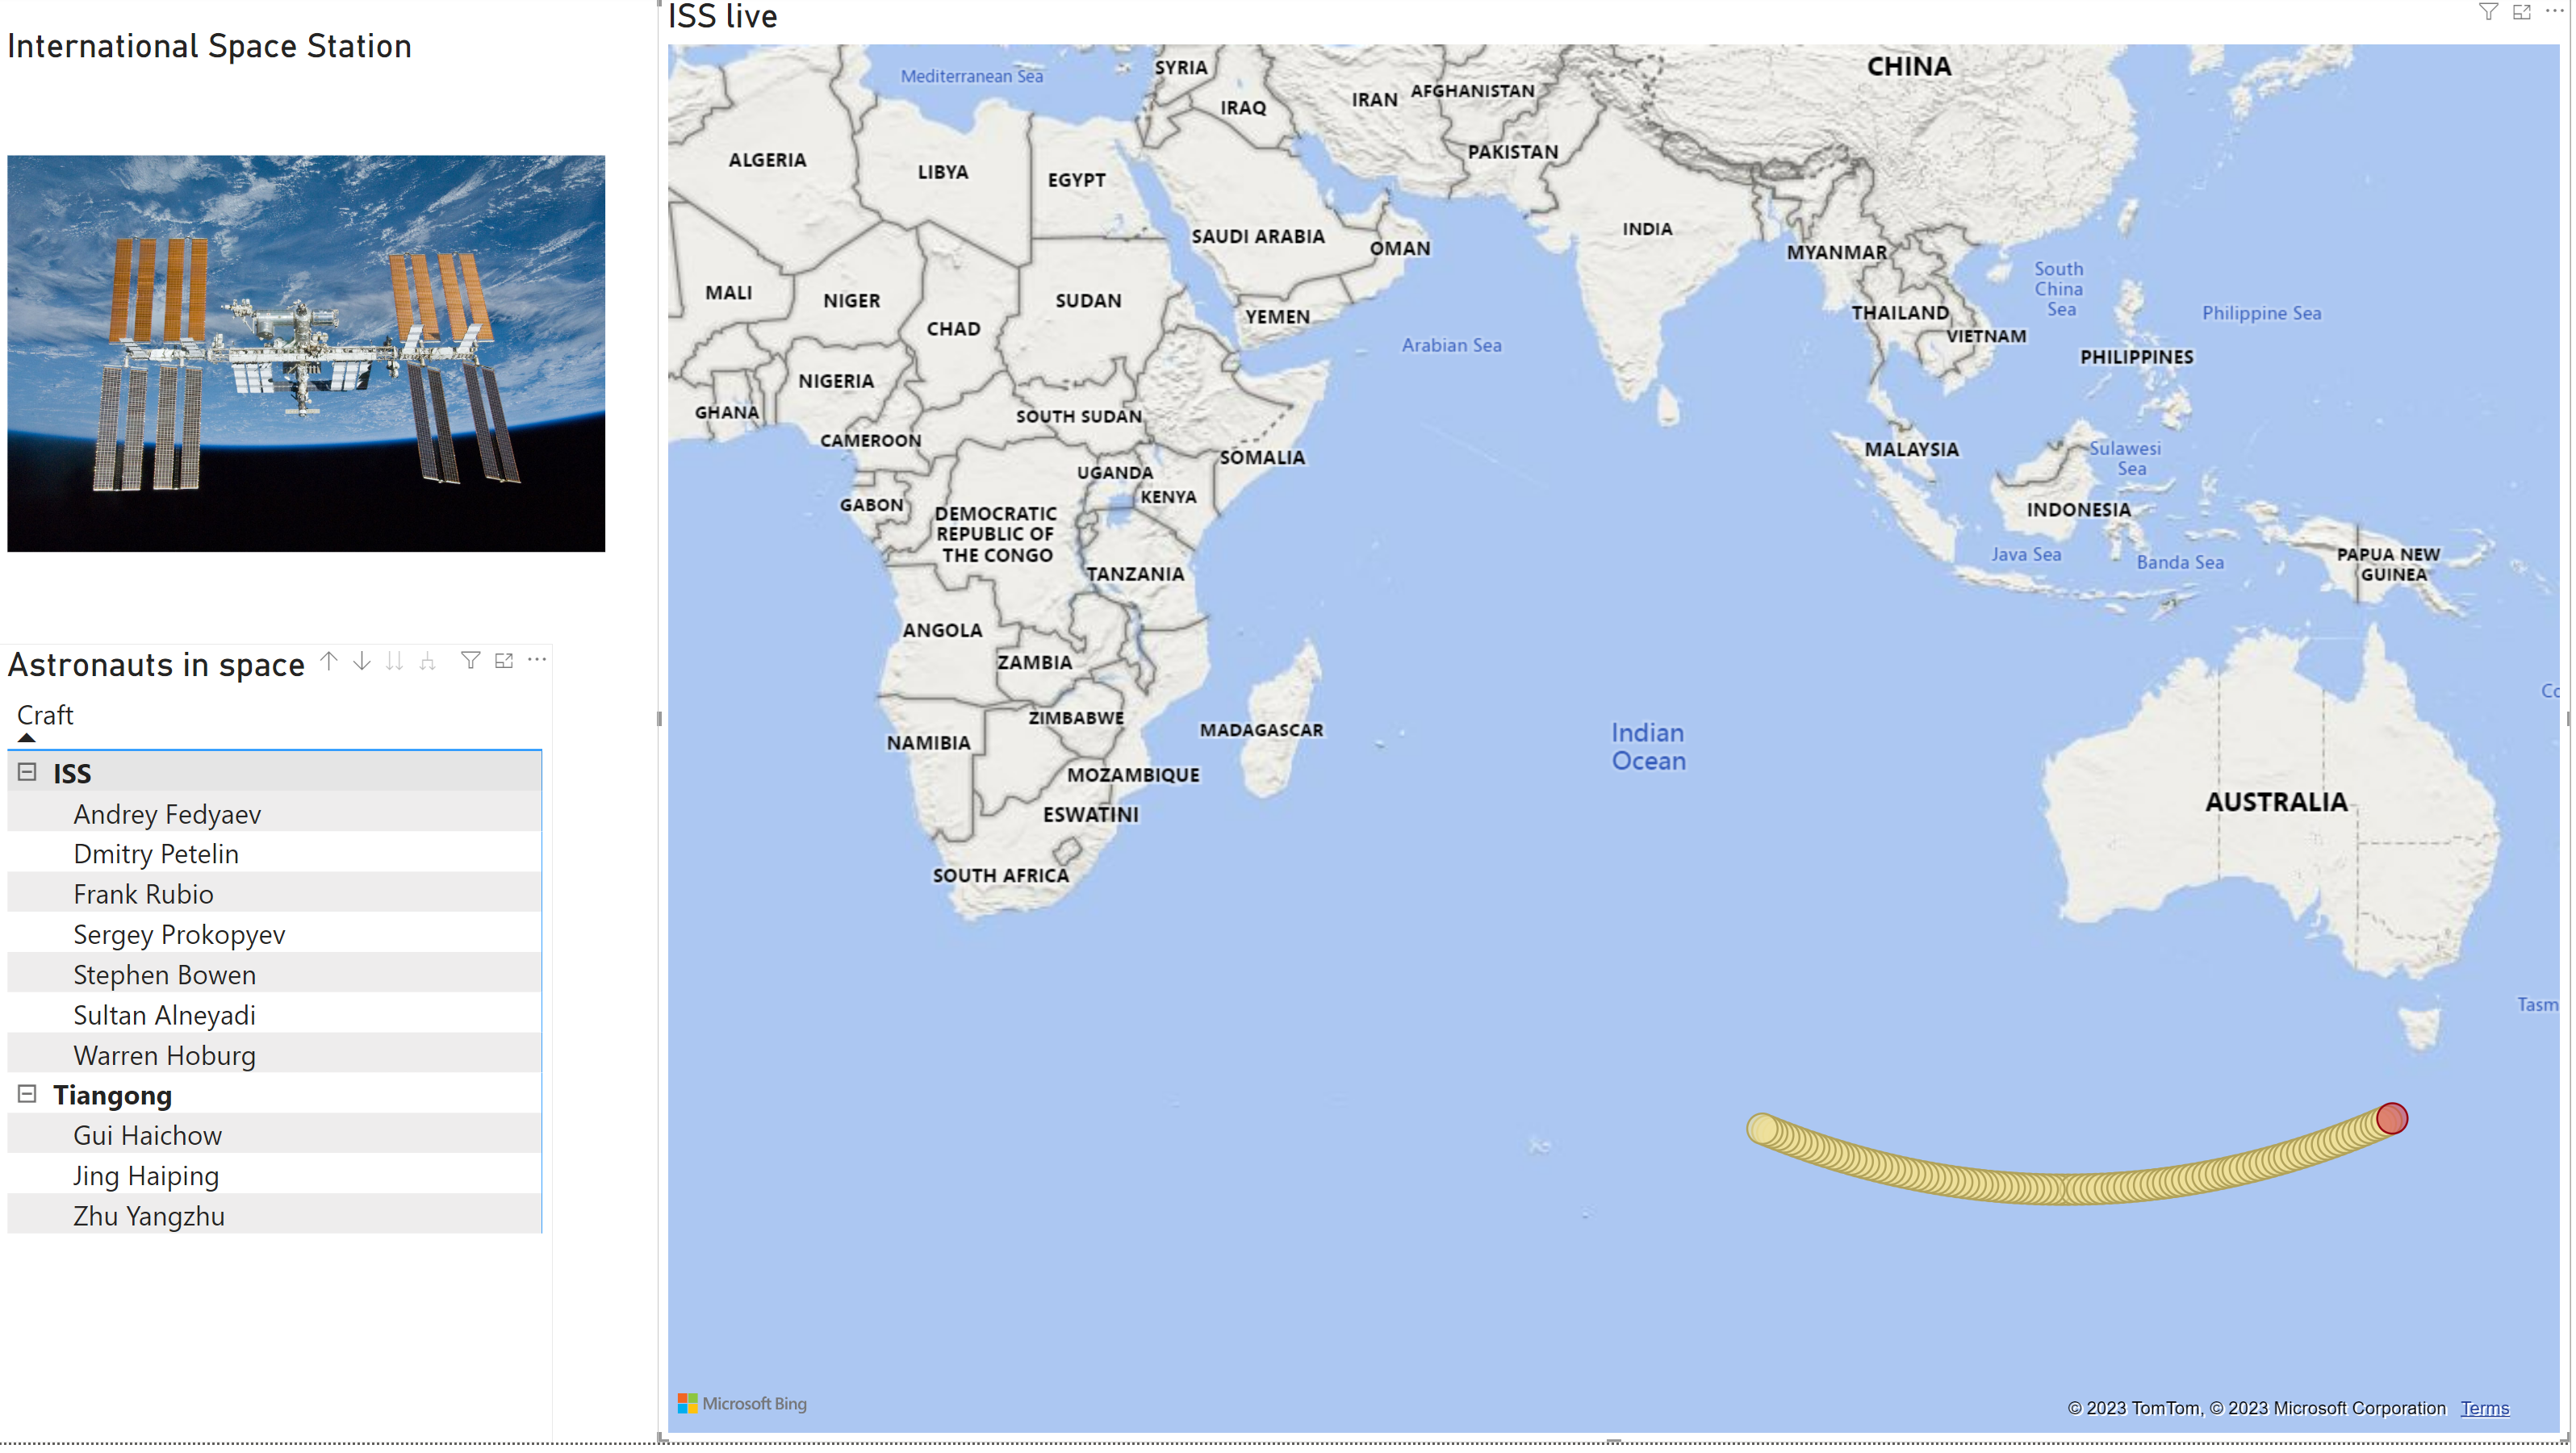

What the dashboard file says about the page in this screenshot:
{"tool":"powerbi","page":{"name":"ISS","canvas":[1280,720],"ordinal":0},"visuals":[{"type":"map","title":"ISS live","fields":{"Y":["Kusto Query Result.Latitude"],"X":["Kusto Query Result.Longitude"]},"box":[328.7,0,951.3,720.1],"z":0},{"type":"pivotTable","title":"Astronauts in space","fields":{"Rows":["GetAstronauts.Craft","GetAstronauts.Name"],"Columns":["GetAstronauts.Craft"]},"box":[0,322.7,276.3,397.4],"z":1000},{"type":"image","title":"International Space Station","box":[0,15.1,307.7,307.7],"z":2000}]}

Visuals, with their boxes on the page's 1280x720 design canvas (x1, y1, x2, y2). These are canvas units, not pixel positions in the 2576x1453 screenshot, which may show the page scaled, cropped or inside an application window:
"ISS live" map: [329,0,1280,720]
"Astronauts in space" pivotTable: [0,323,276,720]
"International Space Station" image: [0,15,308,323]
